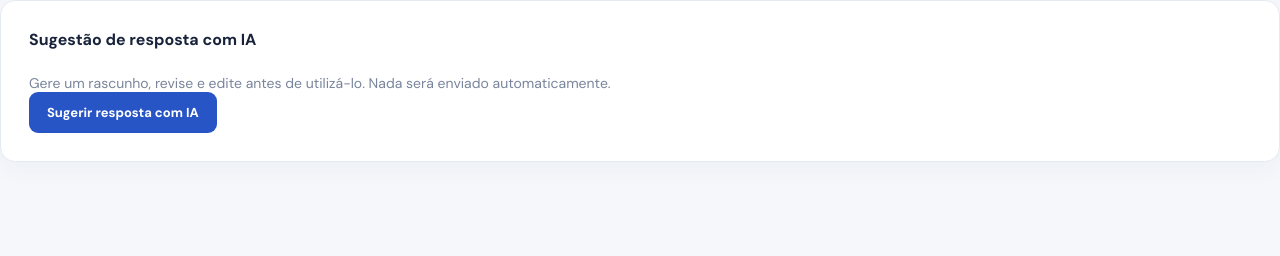
Test: AIReplyPanel › exibe falha e permite nova tentativa
Step 1. Click the button "Sugerir resposta com IA" → (123, 112), box [29,92,217,133]
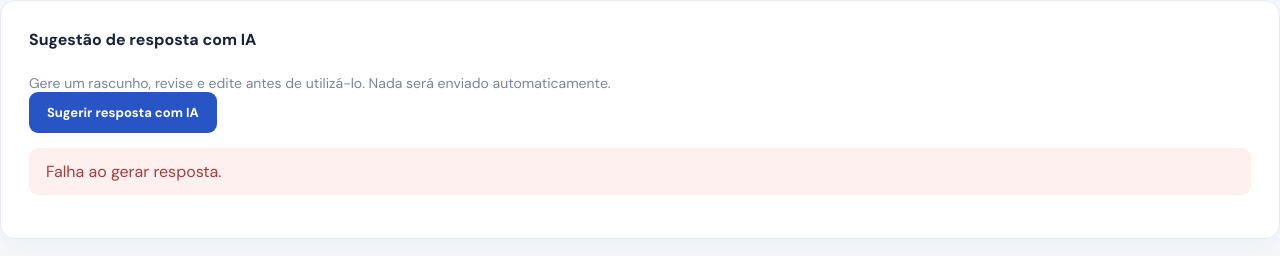
Result: the message reads "Falha ao gerar resposta." at [46,161,222,182]
